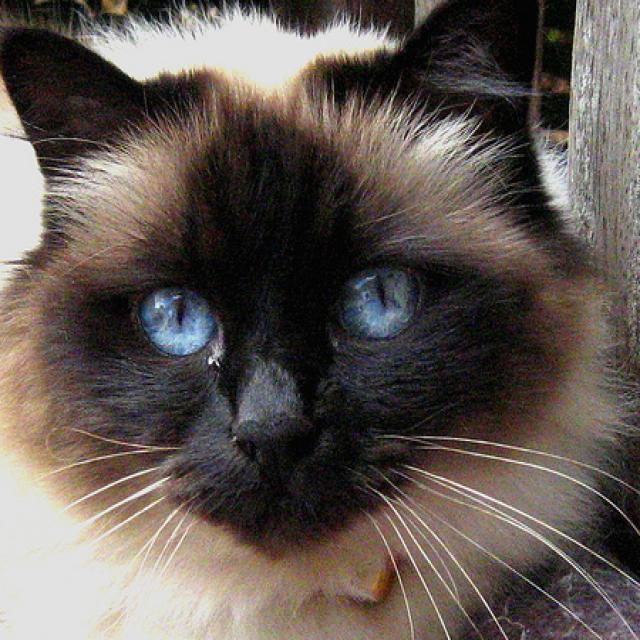Birman: (0, 0, 622, 640)
